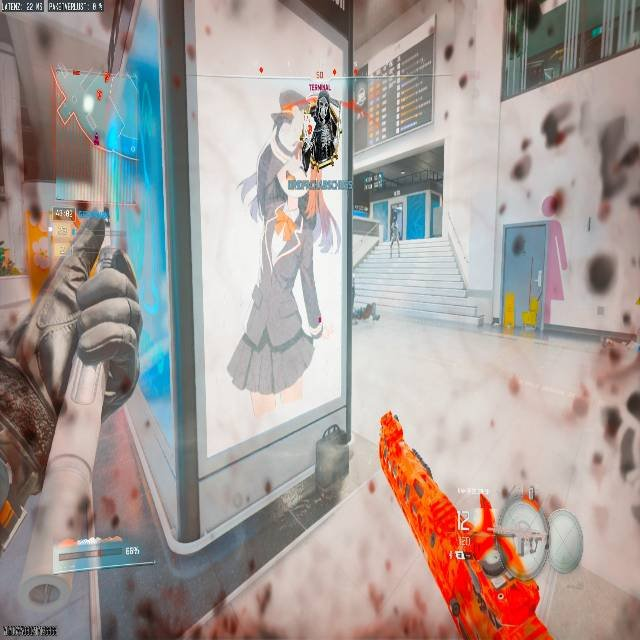head: (541, 99, 578, 147), (278, 89, 306, 116)
player: (29, 228, 144, 570), (454, 483, 584, 639), (301, 92, 340, 170)
